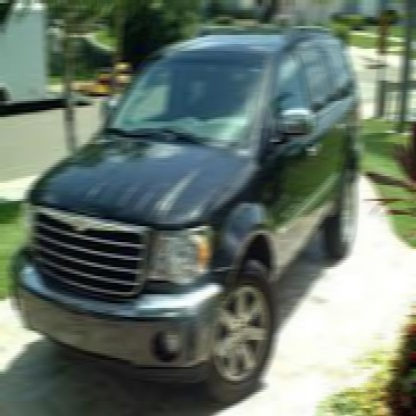Vehicle: (7, 32, 362, 414)
